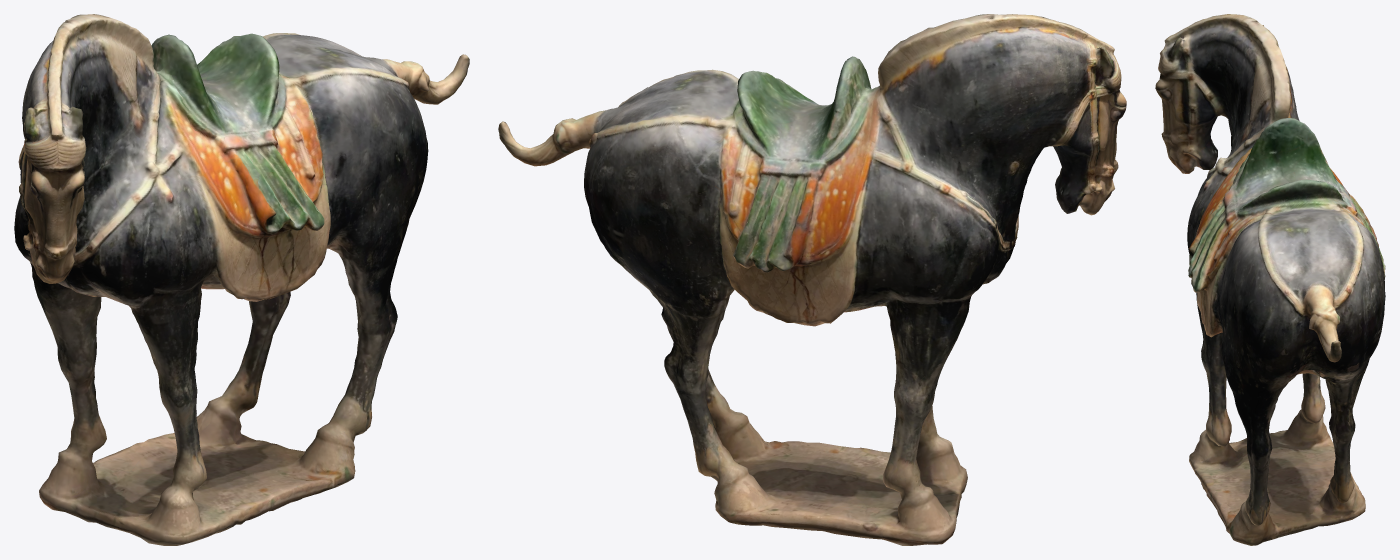
The model's file is sancai-horse.glb.
3 renders of one model, left to right at view 1: azimuth 30°, elevation 25°; view 2: azimuth 150°, elevation 25°; view 3: azimuth 270°, elevation 25°, orthographic. The views are drawn at different scales.
Parts seen in each view (by area): view 1: mesh_0; view 2: mesh_0; view 3: mesh_0.
Part boxes in pixels (left/top/right/bottom): mesh_0: left=14, top=14, right=469, bottom=545; mesh_0: left=498, top=14, right=1126, bottom=545; mesh_0: left=1155, top=14, right=1385, bottom=545.
Bounding box in the file's own units: 0.7239 × 0.6701 × 0.335.
1 material, 1 textured.
